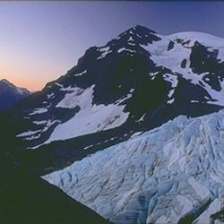neutral: (2, 3, 219, 221)
